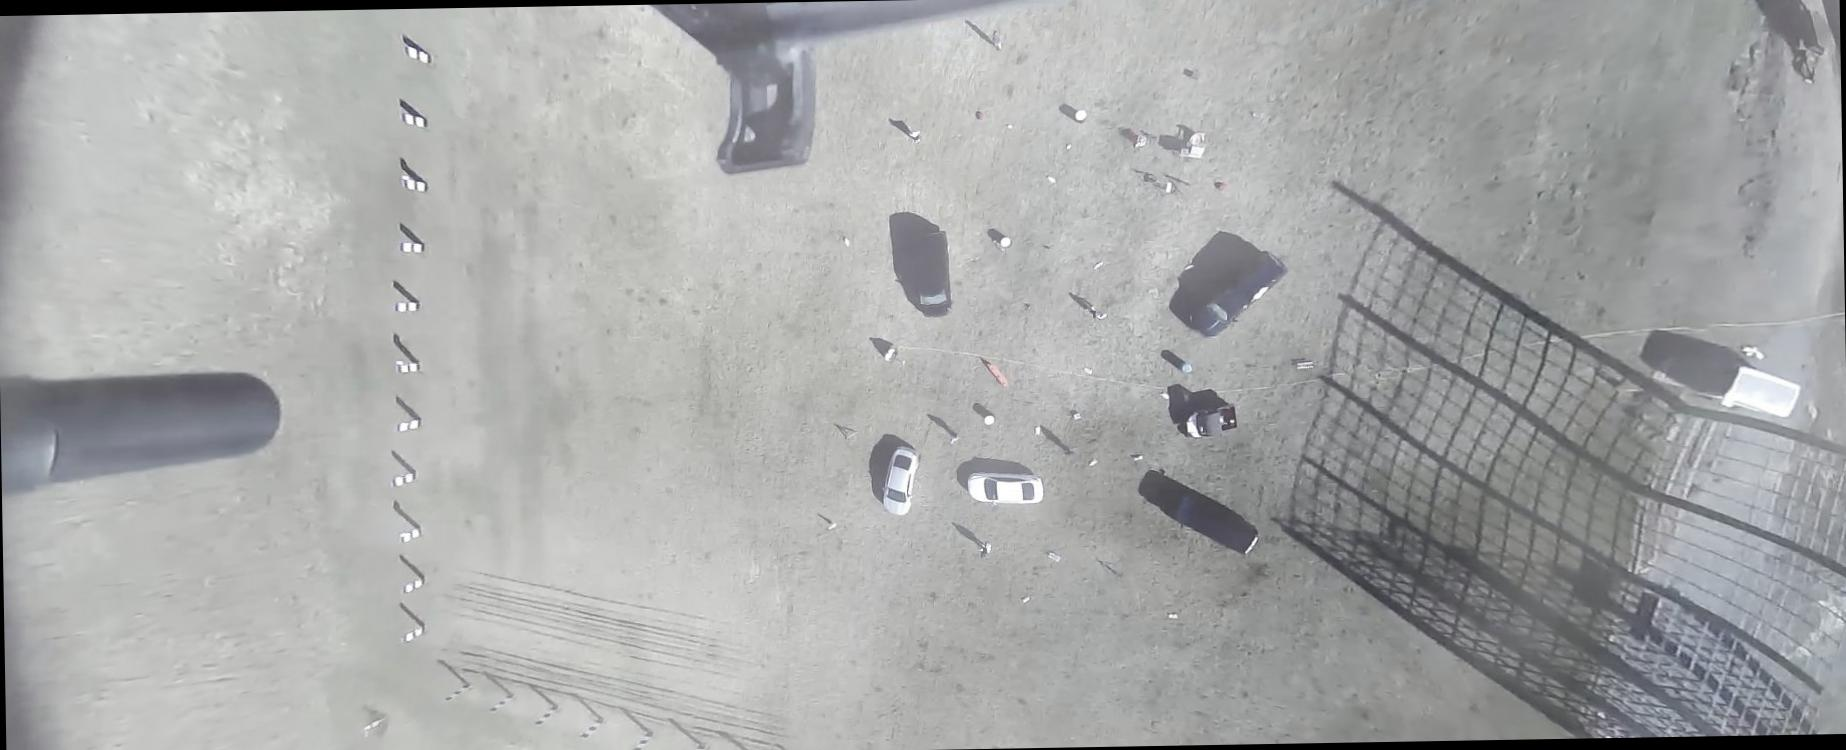vehicle: (1188, 250, 1290, 338), (1160, 484, 1261, 557), (914, 230, 954, 319), (881, 444, 923, 517), (967, 469, 1045, 507), (1182, 403, 1241, 440)
